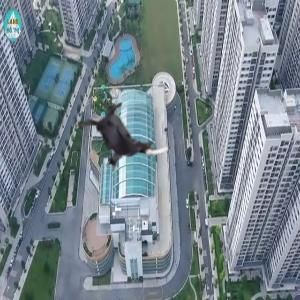drone: (74, 89, 169, 184)
